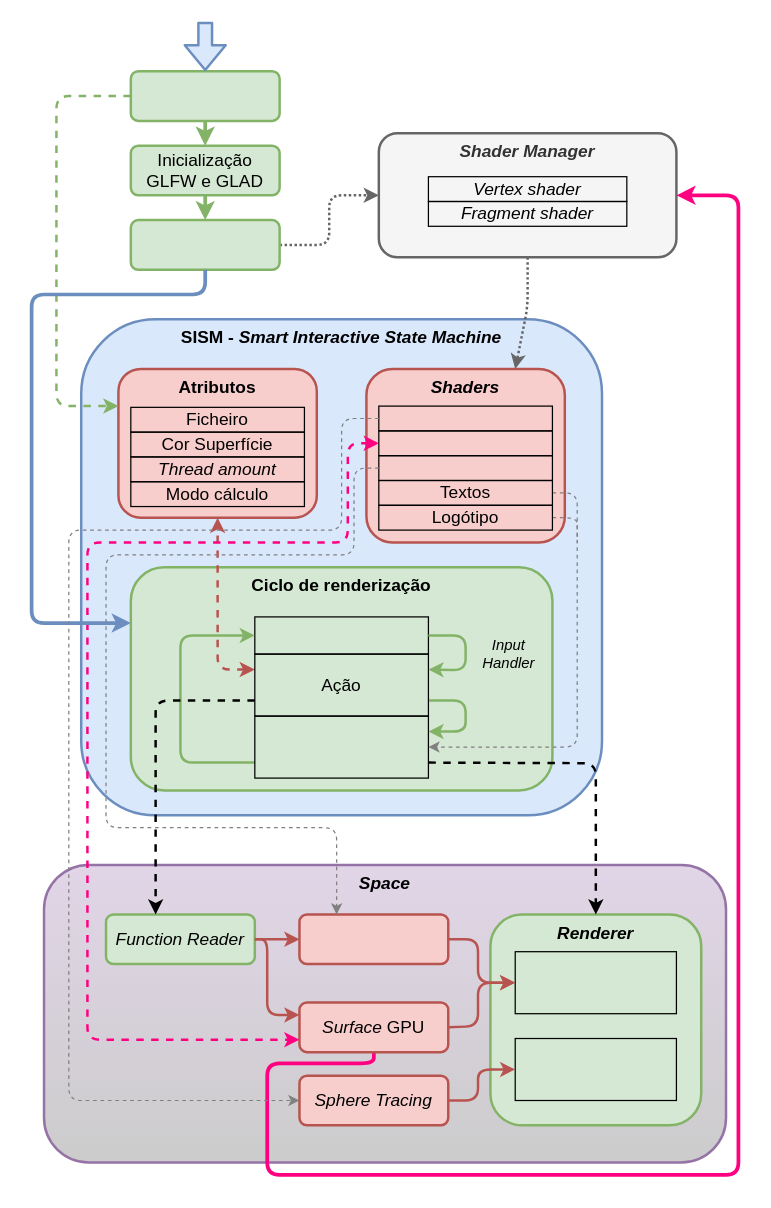
Image size: 771x1208. Some labels were removed from this diagram. Here are the shapes that lost their labels. From the top down, the centre of each, then its label:
the point at 204,95: Argumentos
the point at 204,244: Compilação Shaders
the point at 465,418: Sphere Tracing GPU
the point at 465,443: Ray Marching GPU
the point at 465,467: Ray Marching CPU
the point at 341,635: Eventos GLFW
the point at 341,746: Renderização (inc. texto e logo)
the point at 373,939: Surface CPU
the point at 595,982: Surface VAO Handler
the point at 595,1068: Sphere Tracing VAO Handler
